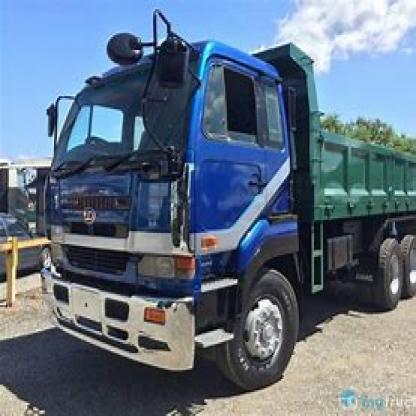dump_truck: (32, 17, 414, 394)
